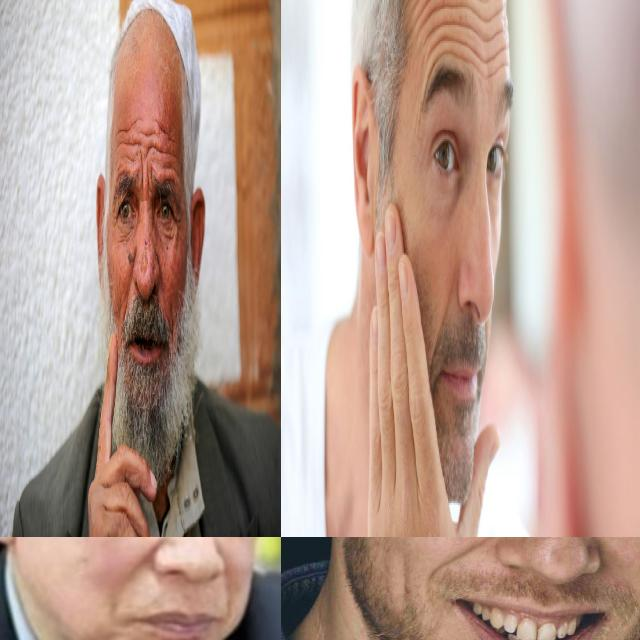crows_feet: (172, 210, 182, 230), (110, 206, 119, 227)
forehead: (425, 9, 476, 62), (481, 14, 506, 68), (158, 136, 174, 172), (142, 125, 158, 153), (119, 136, 142, 152), (159, 118, 172, 145), (129, 107, 141, 133), (116, 119, 128, 139)
frown_line: (145, 164, 153, 197), (139, 155, 145, 198)
gummy_smile: (423, 537, 506, 578), (436, 272, 455, 331), (132, 537, 161, 571)
